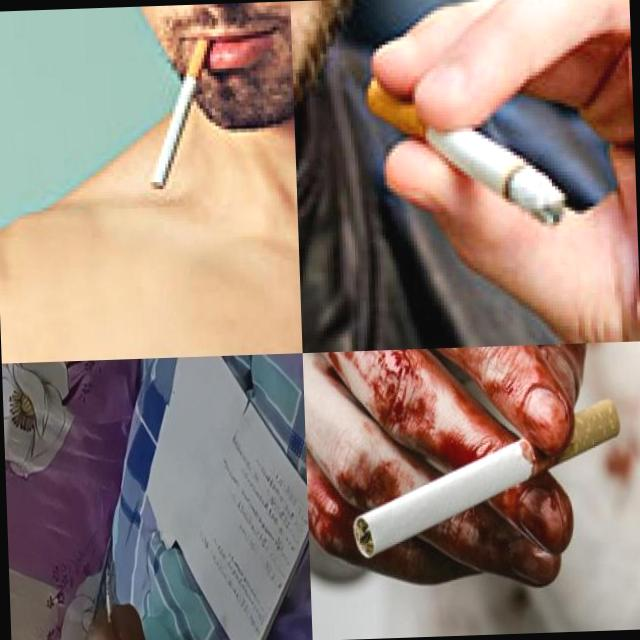cigarette: (347, 393, 626, 560), (363, 62, 572, 236), (144, 28, 220, 192), (104, 568, 112, 634)
